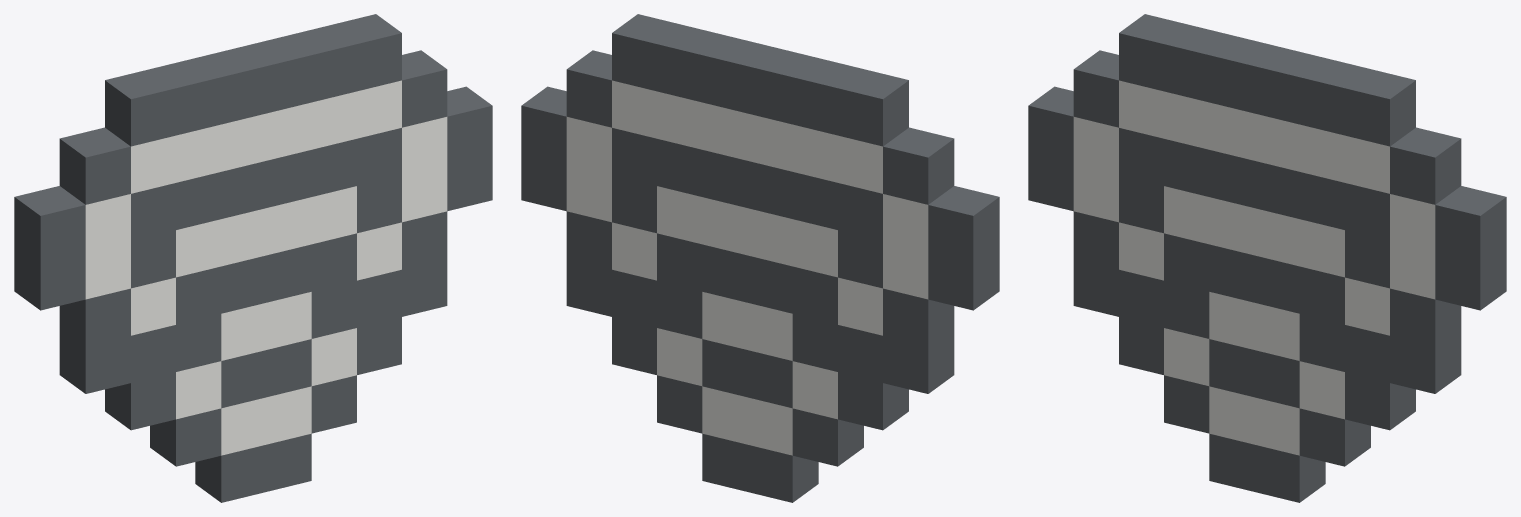
File: shield.obj
The picture shows the model from 3 angles, left to right: view 1: azimuth 30°, elevation 25°; view 2: azimuth 150°, elevation 25°; view 3: azimuth 330°, elevation 25°; orthographic projection.
Size of the model in its own units: 1 by 0.9 by 0.1.
Materials: 1 (1 with a texture image).
